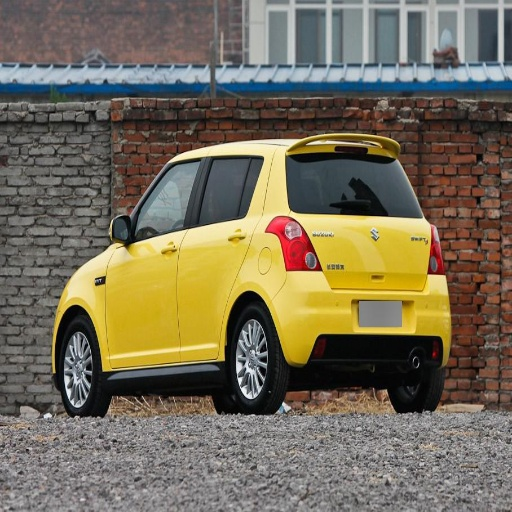back_bumper: (273, 272, 449, 365)
back_glass: (288, 151, 420, 215)
back_left_door: (178, 156, 252, 359)
trunk: (308, 218, 432, 309)
